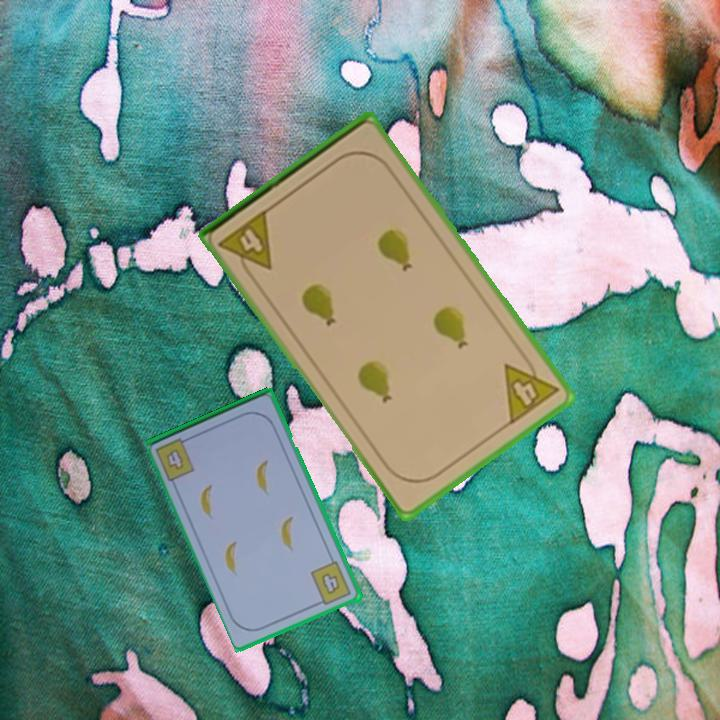4b: (308, 558, 355, 608), (163, 445, 187, 473)
4p: (500, 348, 562, 428), (215, 205, 276, 283)
